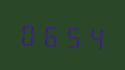five: (62, 20, 83, 51)
four: (84, 21, 105, 52)
six: (40, 18, 61, 49)
zero: (18, 17, 39, 48)
